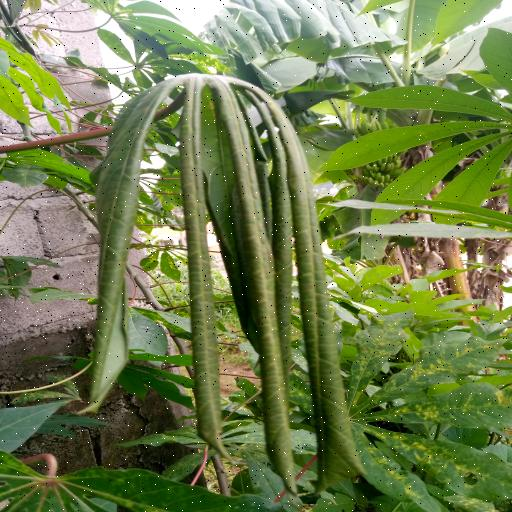Cassava_Bacterial_Disease: (73, 69, 371, 484)
